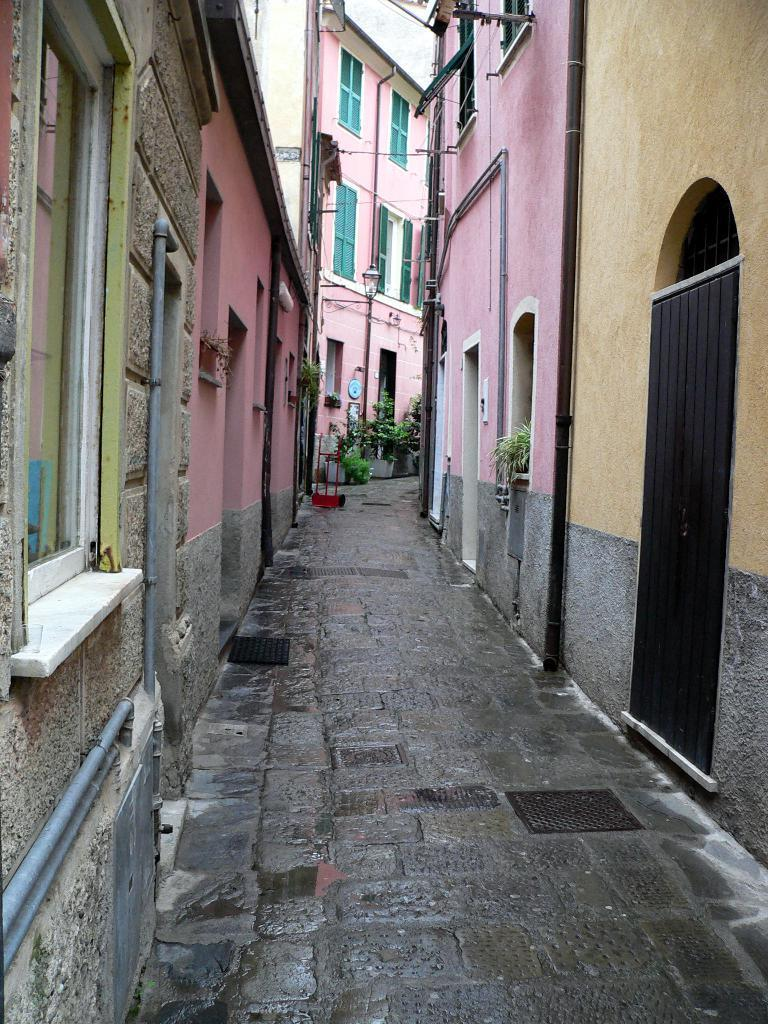door: (646, 276, 738, 722)
